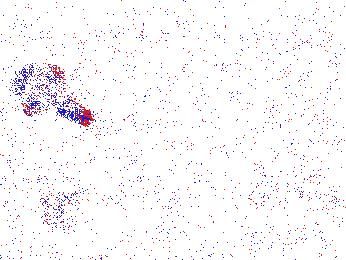flame jellyfish: (15, 60, 95, 128), (159, 178, 230, 240), (1, 165, 79, 216)
